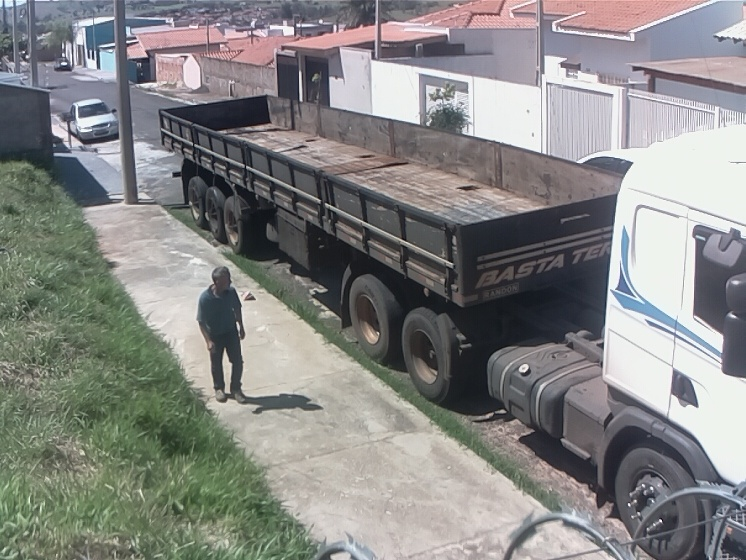person: (194, 265, 251, 408)
